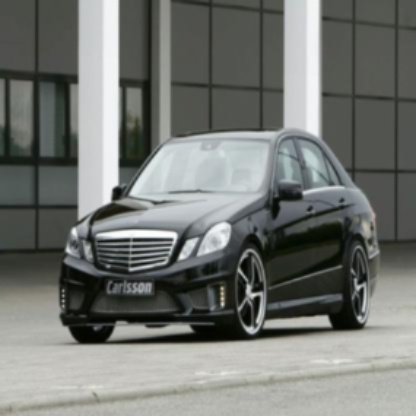Vehicle: (60, 127, 378, 343)
